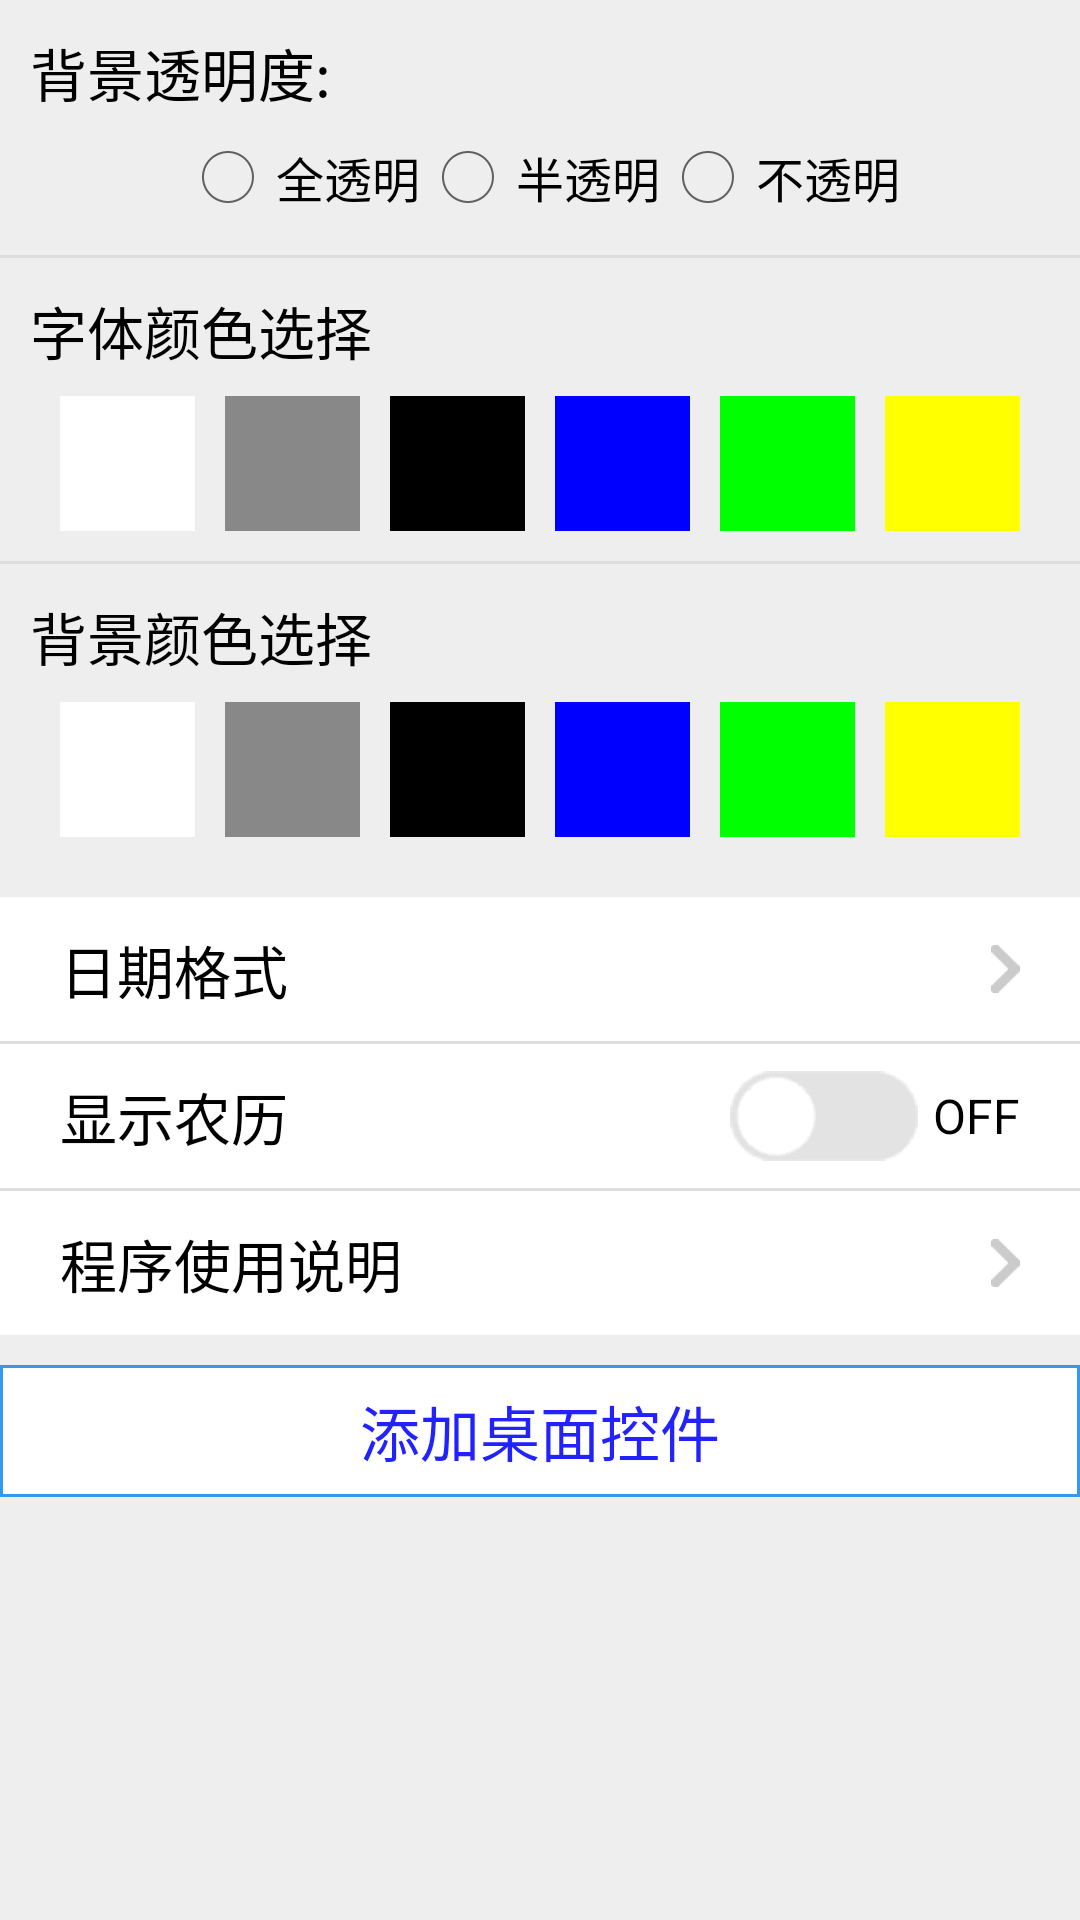

Icon click points for this 1080x1920 phone screenshot, format (x=x, y=y):
next page: (x=1005, y=969), (x=1005, y=1263)
